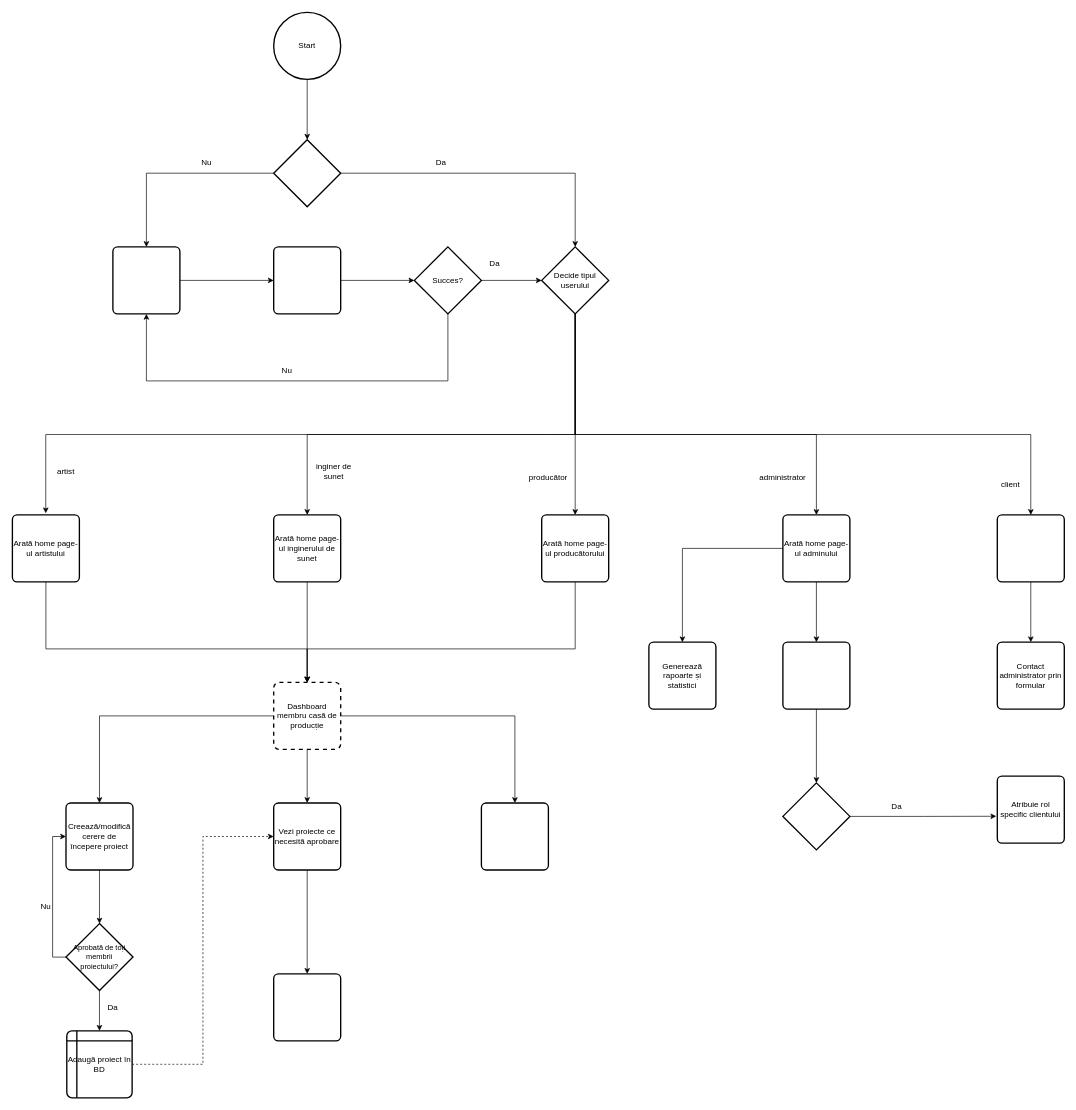
Image size: 1076x1110. Some labels were removed from this diagram. Here are the shapes that lost their labels. From the top down, the centre of each, then its label:
At [307,173]: "Userul este autentificat?".
At [146,280]: "Arata pagina publică".
At [307,280]: "Login Flow".
At [1030,548]: "Arată home page-ul unui client oarecare".
At [816,675]: "Citește cererile clienților".
At [514,836]: "Modifică atașamentele / statusul proiectului".
At [816,816]: "Este aprobat?".
At [307,1007]: "Aprobă / respinge un proiect".
